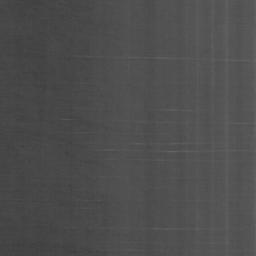Waist folding: (67, 141, 256, 154), (74, 54, 256, 63), (71, 226, 199, 232), (70, 248, 135, 256), (160, 107, 191, 113), (231, 121, 256, 128), (0, 144, 24, 149), (61, 117, 72, 122)
